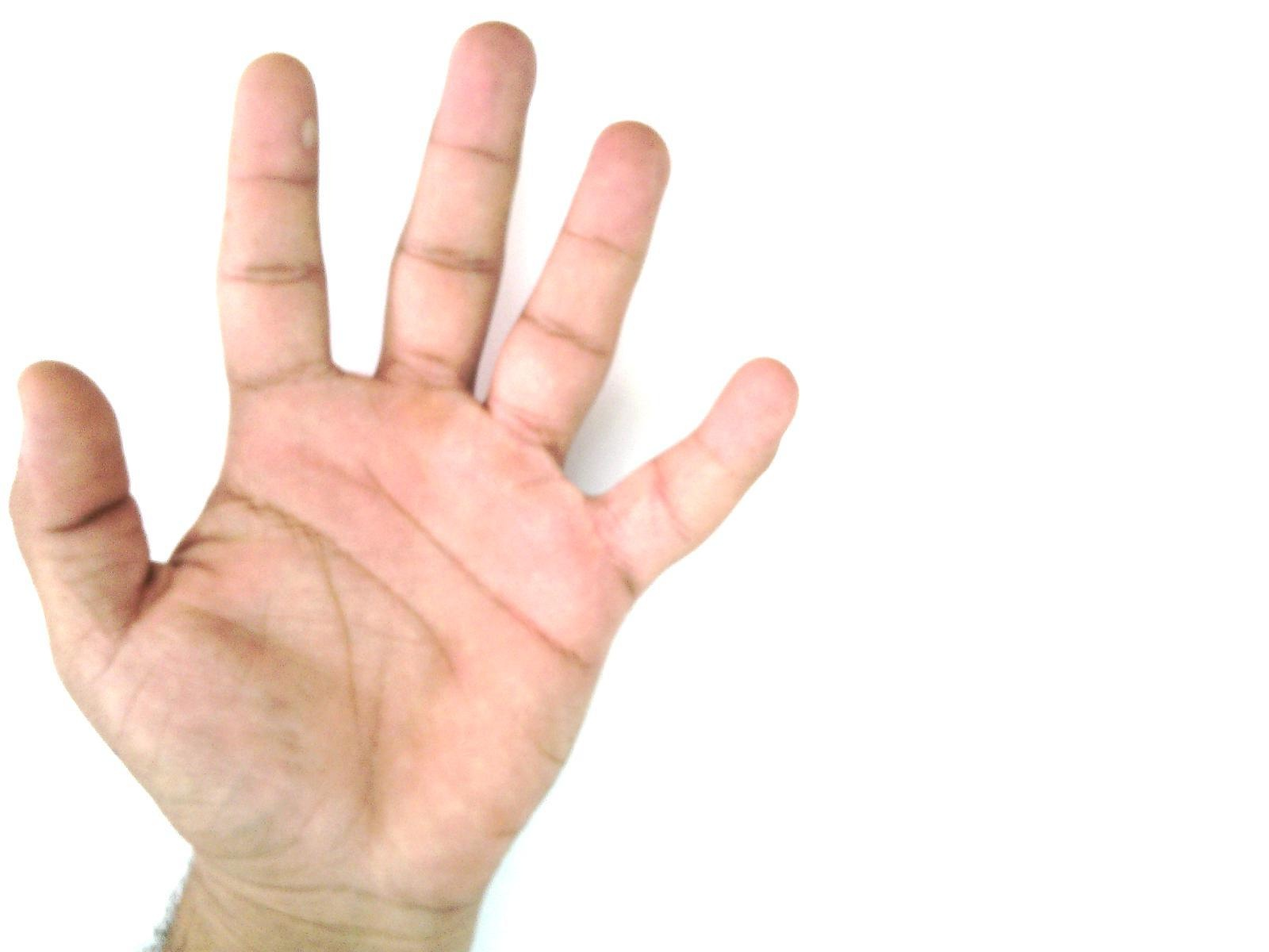open_palm: (10, 21, 803, 914)
